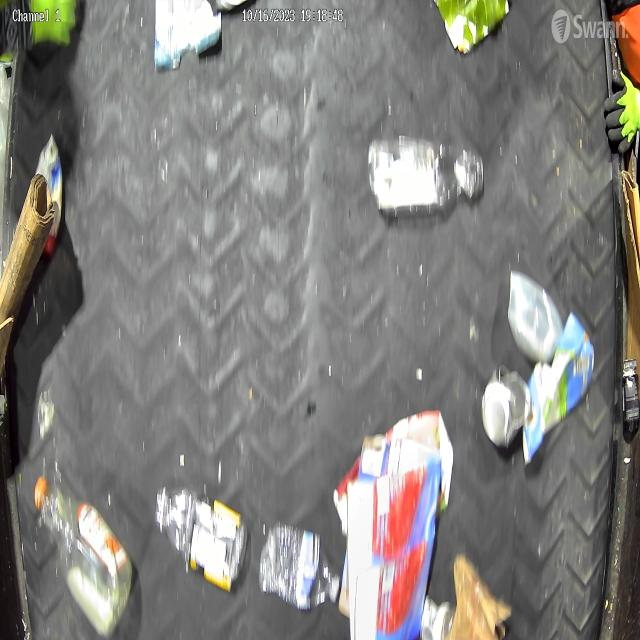can: (482, 361, 532, 453)
plastic_bottle: (34, 472, 134, 640), (367, 128, 485, 226), (153, 480, 250, 593), (259, 522, 341, 610)
